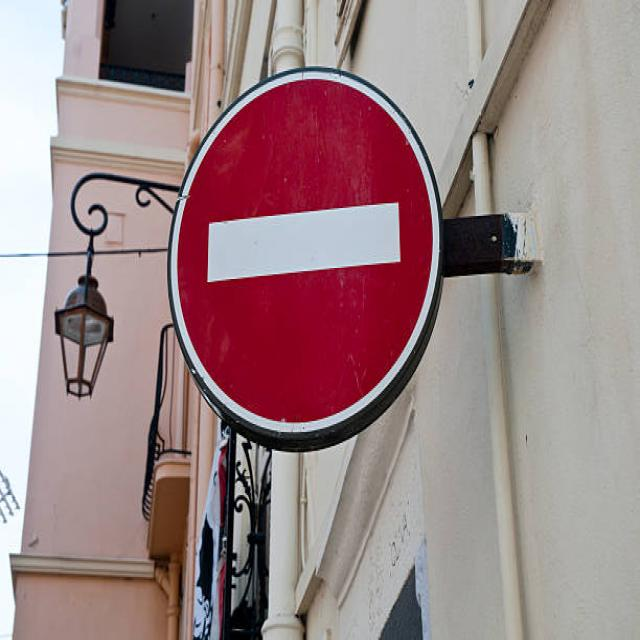do_not_enter: (165, 64, 452, 444)
